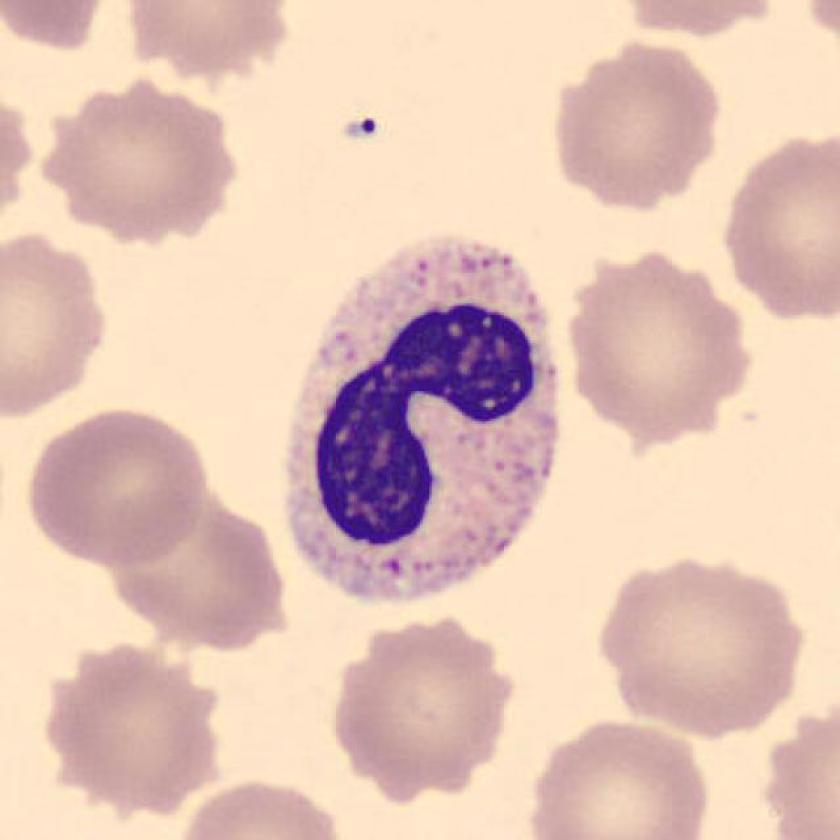neutrophil: (281, 237, 563, 601)
